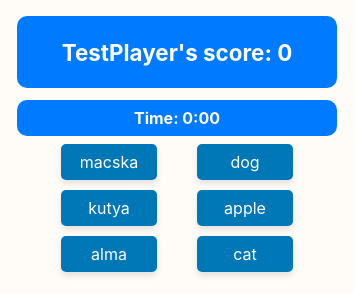
Scenario: Game Component › accumulates score correctly for multiple matches
Note: Match 1: Correct
Click the text "alma" at (109, 254), box [61,236,157,272]
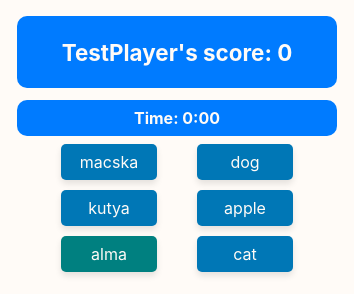
Click the text "apple" at (245, 208), box [197,190,293,226]
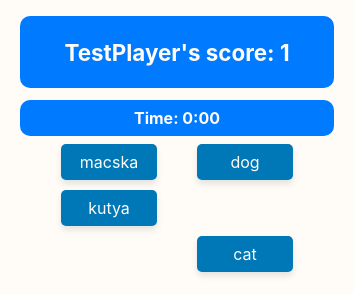
Expected: the text "TestPlayer's score: 1" is shown, [20,16,334,88]
Note: Match 2: Incorrect
Click the text "kutya" at (109, 208), box [61,190,157,226]
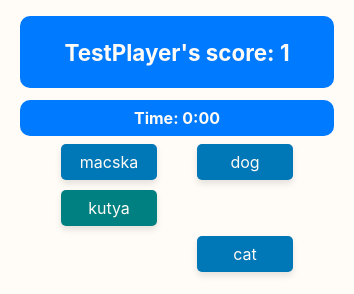
Click the text "cat" at (245, 254), box [197,236,293,272]
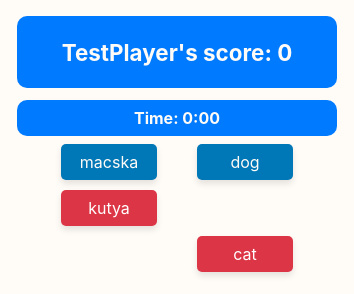
Expected: the text "TestPlayer's score: 0" is shown, [17,16,337,88]
Note: Match 3: Correct
Click the text "macska" at (109, 162), box [61,144,157,180]
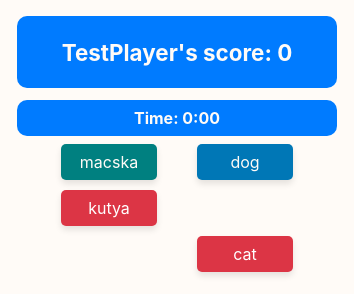
Click the text "cat" at (245, 254), box [197,236,293,272]
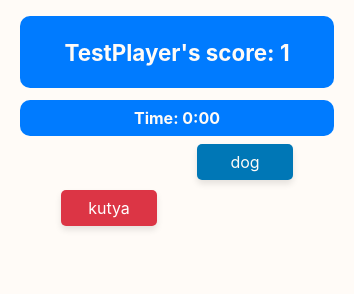
Expected: the text "TestPlayer's score: 1" is shown, [20,16,334,88]
